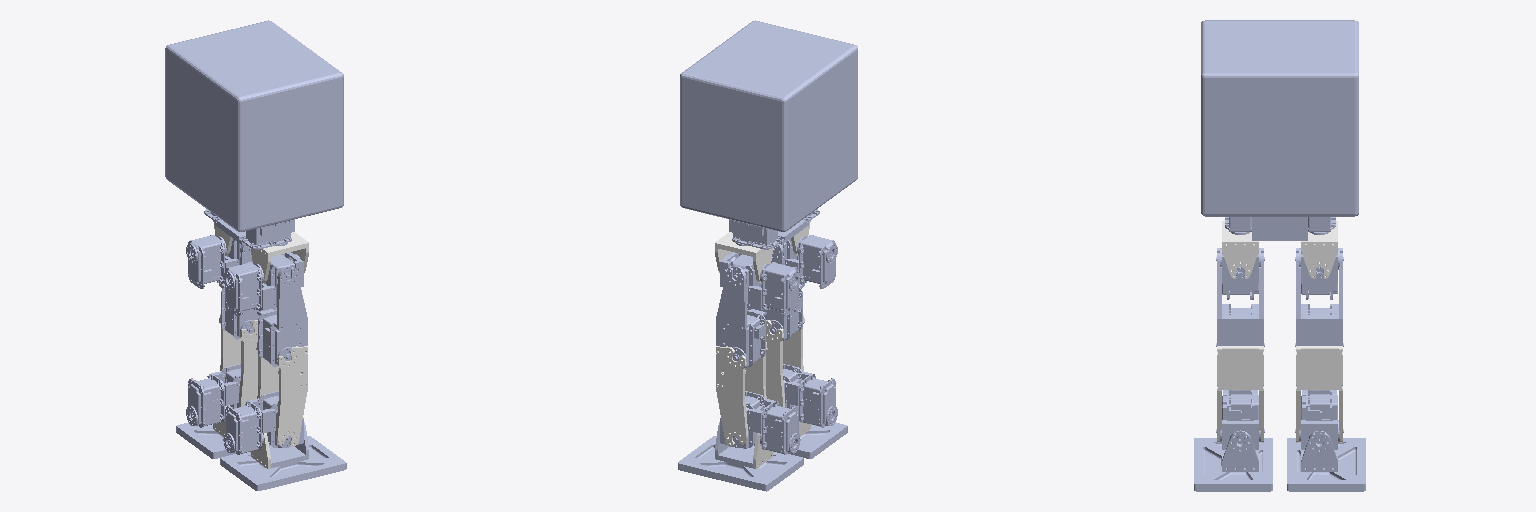
URDF robot description (src23):
<?xml version="1.0" encoding="utf-8"?>
<!-- This URDF was automatically created by SolidWorks to URDF Exporter! Originally created by [author] ([email redacted]) 
     Commit Version: 1.6.0-1-g15f4949  Build Version: 1.6.7594.29634
     For more information, please see http://wiki.ros.org/sw_urdf_exporter -->
<robot
  name="src23">
  <link
    name="base_link">
    <inertial>
      <origin
        xyz="-2.403E-12 6.9285E-12 -2.2711E-11"
        rpy="0 0 0" />
      <mass
        value="6.902" />
      <inertia
        ixx="0.044371"
        ixy="-1.0159E-12"
        ixz="4.5302E-07"
        iyy="0.037432"
        iyz="-2.863E-11"
        izz="0.03702" />
    </inertial>
    <visual>
      <origin
        xyz="0 0 0"
        rpy="0 0 0" />
      <geometry>
        <mesh
          filename="package://src23/meshes/base_link.STL" />
      </geometry>
      <material
        name="">
        <color
          rgba="0.79216 0.81961 0.93333 1" />
      </material>
    </visual>
    <collision>
      <origin
        xyz="0 0 0"
        rpy="0 0 0" />
      <geometry>
        <mesh
          filename="package://src23/meshes/base_link.STL" />
      </geometry>
    </collision>
  </link>
  <link
    name="RP_Link">
    <inertial>
      <origin
        xyz="0.0030843 8.0795E-08 0.027759"
        rpy="0 0 0" />
      <mass
        value="0.032185" />
      <inertia
        ixx="8.1509E-06"
        ixy="9.1895E-22"
        ixz="2.5914E-09"
        iyy="6.7466E-06"
        iyz="2.4212E-11"
        izz="9.2429E-06" />
    </inertial>
    <visual>
      <origin
        xyz="0 0 0"
        rpy="0 0 0" />
      <geometry>
        <mesh
          filename="package://src23/meshes/RP_Link.STL" />
      </geometry>
      <material
        name="">
        <color
          rgba="1 1 1 1" />
      </material>
    </visual>
    <collision>
      <origin
        xyz="0 0 0"
        rpy="0 0 0" />
      <geometry>
        <mesh
          filename="package://src23/meshes/RP_Link.STL" />
      </geometry>
    </collision>
  </link>
  <joint
    name="RP"
    type="revolute">
    <origin
      xyz="0.0074551 -0.05 -0.18676"
      rpy="0 0 0" />
    <parent
      link="base_link" />
    <child
      link="RP_Link" />
    <axis
      xyz="0 0 1" />
    <limit
      lower="0"
      upper="0"
      effort="0"
      velocity="0" />
  </joint>
  <link
    name="RPm_Link">
    <inertial>
      <origin
        xyz="-0.020727 2.658E-05 -0.014808"
        rpy="0 0 0" />
      <mass
        value="0.18625" />
      <inertia
        ixx="7.3206E-05"
        ixy="2.1305E-09"
        ixz="-8.425E-07"
        iyy="6.5856E-05"
        iyz="3.6064E-07"
        izz="4.4648E-05" />
    </inertial>
    <visual>
      <origin
        xyz="0 0 0"
        rpy="0 0 0" />
      <geometry>
        <mesh
          filename="package://src23/meshes/RPm_Link.STL" />
      </geometry>
      <material
        name="">
        <color
          rgba="0.79216 0.81961 0.93333 1" />
      </material>
    </visual>
    <collision>
      <origin
        xyz="0 0 0"
        rpy="0 0 0" />
      <geometry>
        <mesh
          filename="package://src23/meshes/RPm_Link.STL" />
      </geometry>
    </collision>
  </link>
  <joint
    name="RPm"
    type="revolute">
    <origin
      xyz="0 0 0"
      rpy="0 0 0" />
    <parent
      link="RP_Link" />
    <child
      link="RPm_Link" />
    <axis
      xyz="1 0 0" />
    <limit
      lower="0"
      upper="0"
      effort="0"
      velocity="0" />
  </joint>
  <link
    name="RPd_Link">
    <inertial>
      <origin
        xyz="0.0044288 -3.146E-05 -0.087344"
        rpy="0 0 0" />
      <mass
        value="0.15516" />
      <inertia
        ixx="8.6755E-05"
        ixy="-2.1454E-09"
        ixz="6.58E-06"
        iyy="7.9237E-05"
        iyz="3.6064E-07"
        izz="3.7712E-05" />
    </inertial>
    <visual>
      <origin
        xyz="0 0 0"
        rpy="0 0 0" />
      <geometry>
        <mesh
          filename="package://src23/meshes/RPd_Link.STL" />
      </geometry>
      <material
        name="">
        <color
          rgba="0.79608 0.82353 0.93725 1" />
      </material>
    </visual>
    <collision>
      <origin
        xyz="0 0 0"
        rpy="0 0 0" />
      <geometry>
        <mesh
          filename="package://src23/meshes/RPd_Link.STL" />
      </geometry>
    </collision>
  </link>
  <joint
    name="RPd"
    type="revolute">
    <origin
      xyz="0 0 0"
      rpy="0 0 0" />
    <parent
      link="RPm_Link" />
    <child
      link="RPd_Link" />
    <axis
      xyz="0 1 0" />
    <limit
      lower="0"
      upper="0"
      effort="0"
      velocity="0" />
  </joint>
  <link
    name="RK_Link">
    <inertial>
      <origin
        xyz="0.011128 1.9486E-07 -0.046701"
        rpy="0 0 0" />
      <mass
        value="0.076683" />
      <inertia
        ixx="8.1384E-05"
        ixy="-5.3754E-13"
        ixz="-6.8263E-06"
        iyy="8.6027E-05"
        iyz="-1.5763E-12"
        izz="1.2623E-05" />
    </inertial>
    <visual>
      <origin
        xyz="0 0 0"
        rpy="0 0 0" />
      <geometry>
        <mesh
          filename="package://src23/meshes/RK_Link.STL" />
      </geometry>
      <material
        name="">
        <color
          rgba="0.96863 0.96863 0.96863 1" />
      </material>
    </visual>
    <collision>
      <origin
        xyz="0 0 0"
        rpy="0 0 0" />
      <geometry>
        <mesh
          filename="package://src23/meshes/RK_Link.STL" />
      </geometry>
    </collision>
  </link>
  <joint
    name="RK"
    type="revolute">
    <origin
      xyz="0 0 -0.12"
      rpy="0 0 0" />
    <parent
      link="RPd_Link" />
    <child
      link="RK_Link" />
    <axis
      xyz="0 1 0" />
    <limit
      lower="0"
      upper="0"
      effort="0"
      velocity="0" />
  </joint>
  <link
    name="RA_Link">
    <inertial>
      <origin
        xyz="-0.020723 -3.4876E-05 0.014808"
        rpy="0 0 0" />
      <mass
        value="0.18625" />
      <inertia
        ixx="7.3206E-05"
        ixy="-2.1306E-09"
        ixz="8.425E-07"
        iyy="6.5856E-05"
        iyz="3.6064E-07"
        izz="4.4648E-05" />
    </inertial>
    <visual>
      <origin
        xyz="0 0 0"
        rpy="0 0 0" />
      <geometry>
        <mesh
          filename="package://src23/meshes/RA_Link.STL" />
      </geometry>
      <material
        name="">
        <color
          rgba="0.79216 0.81961 0.93333 1" />
      </material>
    </visual>
    <collision>
      <origin
        xyz="0 0 0"
        rpy="0 0 0" />
      <geometry>
        <mesh
          filename="package://src23/meshes/RA_Link.STL" />
      </geometry>
    </collision>
  </link>
  <joint
    name="RA"
    type="revolute">
    <origin
      xyz="0 0 -0.12"
      rpy="0 0 0" />
    <parent
      link="RK_Link" />
    <child
      link="RA_Link" />
    <axis
      xyz="0 1 0" />
    <limit
      lower="0"
      upper="0"
      effort="0"
      velocity="0" />
  </joint>
  <link
    name="RF_Link">
    <inertial>
      <origin
        xyz="-0.026596 -9.982E-05 -0.019713"
        rpy="0 0 0" />
      <mass
        value="0.0084038" />
      <inertia
        ixx="2.5925E-06"
        ixy="1.2311E-20"
        ixz="1.7723E-22"
        iyy="1.3986E-06"
        iyz="1.2106E-11"
        izz="1.2289E-06" />
    </inertial>
    <visual>
      <origin
        xyz="0 0 0"
        rpy="0 0 0" />
      <geometry>
        <mesh
          filename="package://src23/meshes/RF_Link.STL" />
      </geometry>
      <material
        name="">
        <color
          rgba="0.92549 0.92549 0.92549 1" />
      </material>
    </visual>
    <collision>
      <origin
        xyz="0 0 0"
        rpy="0 0 0" />
      <geometry>
        <mesh
          filename="package://src23/meshes/RF_Link.STL" />
      </geometry>
    </collision>
  </link>
  <joint
    name="RF"
    type="revolute">
    <origin
      xyz="0 0 0"
      rpy="0 0 0" />
    <parent
      link="RA_Link" />
    <child
      link="RF_Link" />
    <axis
      xyz="1 0 0" />
    <limit
      lower="0"
      upper="0"
      effort="0"
      velocity="0" />
  </joint>
  <link
    name="RS_Link">
    <inertial>
      <origin
        xyz="0.0047189 -0.0068892 0.0070711"
        rpy="0 0 0" />
      <mass
        value="0.14508" />
      <inertia
        ixx="0.00011554"
        ixy="3.6327E-13"
        ixz="-1.4699E-12"
        iyy="0.0002103"
        iyz="-1.3291E-06"
        izz="0.00031871" />
    </inertial>
    <visual>
      <origin
        xyz="0 0 0"
        rpy="0 0 0" />
      <geometry>
        <mesh
          filename="package://src23/meshes/RS_Link.STL" />
      </geometry>
      <material
        name="">
        <color
          rgba="0.79216 0.81961 0.93333 1" />
      </material>
    </visual>
    <collision>
      <origin
        xyz="0 0 0"
        rpy="0 0 0" />
      <geometry>
        <mesh
          filename="package://src23/meshes/RS_Link.STL" />
      </geometry>
    </collision>
  </link>
  <joint
    name="RS"
    type="revolute">
    <origin
      xyz="0 0 -0.05"
      rpy="0 0 0" />
    <parent
      link="RF_Link" />
    <child
      link="RS_Link" />
    <axis
      xyz="1 0 0" />
    <limit
      lower="0"
      upper="0"
      effort="0"
      velocity="0" />
  </joint>
  <link
    name="LP_Link">
    <inertial>
      <origin
        xyz="0.00308430472578777 8.07946247960434E-08 0.0277589995846447"
        rpy="0 0 0" />
      <mass
        value="0.0321846509954708" />
      <inertia
        ixx="8.15087378543008E-06"
        ixy="1.67332971101005E-22"
        ixz="2.59135407346256E-09"
        iyy="6.74664620431169E-06"
        iyz="2.4211910106564E-11"
        izz="9.24290011143753E-06" />
    </inertial>
    <visual>
      <origin
        xyz="0 0 0"
        rpy="0 0 0" />
      <geometry>
        <mesh
          filename="package://src23/meshes/LP_Link.STL" />
      </geometry>
      <material
        name="">
        <color
          rgba="1 1 1 1" />
      </material>
    </visual>
    <collision>
      <origin
        xyz="0 0 0"
        rpy="0 0 0" />
      <geometry>
        <mesh
          filename="package://src23/meshes/LP_Link.STL" />
      </geometry>
    </collision>
  </link>
  <joint
    name="LP"
    type="revolute">
    <origin
      xyz="0.0074551 0.05 -0.18676"
      rpy="0 0 0" />
    <parent
      link="base_link" />
    <child
      link="LP_Link" />
    <axis
      xyz="0 0 1" />
    <limit
      lower="0"
      upper="0"
      effort="0"
      velocity="0" />
  </joint>
  <link
    name="LPm_Link">
    <inertial>
      <origin
        xyz="-0.0207274437208562 2.65804858109869E-05 -0.0148075586222277"
        rpy="0 0 0" />
      <mass
        value="0.186246782923583" />
      <inertia
        ixx="7.32062294794612E-05"
        ixy="2.13048548411338E-09"
        ixz="-8.42502475240238E-07"
        iyy="6.5855652034397E-05"
        iyz="3.60642118996533E-07"
        izz="4.464753551463E-05" />
    </inertial>
    <visual>
      <origin
        xyz="0 0 0"
        rpy="0 0 0" />
      <geometry>
        <mesh
          filename="package://src23/meshes/LPm_Link.STL" />
      </geometry>
      <material
        name="">
        <color
          rgba="0.792156862745098 0.819607843137255 0.933333333333333 1" />
      </material>
    </visual>
    <collision>
      <origin
        xyz="0 0 0"
        rpy="0 0 0" />
      <geometry>
        <mesh
          filename="package://src23/meshes/LPm_Link.STL" />
      </geometry>
    </collision>
  </link>
  <joint
    name="LPm"
    type="revolute">
    <origin
      xyz="0 0 0"
      rpy="0 0 0" />
    <parent
      link="LP_Link" />
    <child
      link="LPm_Link" />
    <axis
      xyz="1 0 0" />
    <limit
      lower="0"
      upper="0"
      effort="0"
      velocity="0" />
  </joint>
  <link
    name="LPd_Link">
    <inertial>
      <origin
        xyz="0.00442878146276882 -3.14603950928444E-05 -0.0873435911372788"
        rpy="0 0 0" />
      <mass
        value="0.155158404166415" />
      <inertia
        ixx="8.67547471770681E-05"
        ixy="-2.14540531370657E-09"
        ixz="6.5799896853294E-06"
        iyy="7.92367440815387E-05"
        iyz="3.60637120742756E-07"
        izz="3.77121677268323E-05" />
    </inertial>
    <visual>
      <origin
        xyz="0 0 0"
        rpy="0 0 0" />
      <geometry>
        <mesh
          filename="package://src23/meshes/LPd_Link.STL" />
      </geometry>
      <material
        name="">
        <color
          rgba="0.796078431372549 0.823529411764706 0.937254901960784 1" />
      </material>
    </visual>
    <collision>
      <origin
        xyz="0 0 0"
        rpy="0 0 0" />
      <geometry>
        <mesh
          filename="package://src23/meshes/LPd_Link.STL" />
      </geometry>
    </collision>
  </link>
  <joint
    name="LPd"
    type="revolute">
    <origin
      xyz="0 0 0"
      rpy="0 0 0" />
    <parent
      link="LPm_Link" />
    <child
      link="LPd_Link" />
    <axis
      xyz="0 -1 0" />
    <limit
      lower="0"
      upper="0"
      effort="0"
      velocity="0" />
  </joint>
  <link
    name="LK_Link">
    <inertial>
      <origin
        xyz="0.0111276747678031 1.94862065316936E-07 -0.0467011594340604"
        rpy="0 0 0" />
      <mass
        value="0.0766833061478168" />
      <inertia
        ixx="8.13835258979848E-05"
        ixy="-5.37539403425936E-13"
        ixz="-6.82632129314695E-06"
        iyy="8.60266643258083E-05"
        iyz="-1.57628397961801E-12"
        izz="1.2622932439864E-05" />
    </inertial>
    <visual>
      <origin
        xyz="0 0 0"
        rpy="0 0 0" />
      <geometry>
        <mesh
          filename="package://src23/meshes/LK_Link.STL" />
      </geometry>
      <material
        name="">
        <color
          rgba="0.968627450980392 0.968627450980392 0.968627450980392 1" />
      </material>
    </visual>
    <collision>
      <origin
        xyz="0 0 0"
        rpy="0 0 0" />
      <geometry>
        <mesh
          filename="package://src23/meshes/LK_Link.STL" />
      </geometry>
    </collision>
  </link>
  <joint
    name="LK"
    type="revolute">
    <origin
      xyz="0 0 -0.12"
      rpy="0 0 0" />
    <parent
      link="LPd_Link" />
    <child
      link="LK_Link" />
    <axis
      xyz="0 -1 0" />
    <limit
      lower="0"
      upper="0"
      effort="0"
      velocity="0" />
  </joint>
  <link
    name="LA_Link">
    <inertial>
      <origin
        xyz="-0.0207230961298701 -3.48759082748132E-05 0.0148075586274024"
        rpy="0 0 0" />
      <mass
        value="0.186246783228343" />
      <inertia
        ixx="7.32062296398091E-05"
        ixy="-2.13055245061791E-09"
        ixz="8.42502485765733E-07"
        iyy="6.58556520206297E-05"
        iyz="3.60642133292606E-07"
        izz="4.46475355735441E-05" />
    </inertial>
    <visual>
      <origin
        xyz="0 0 0"
        rpy="0 0 0" />
      <geometry>
        <mesh
          filename="package://src23/meshes/LA_Link.STL" />
      </geometry>
      <material
        name="">
        <color
          rgba="0.792156862745098 0.819607843137255 0.933333333333333 1" />
      </material>
    </visual>
    <collision>
      <origin
        xyz="0 0 0"
        rpy="0 0 0" />
      <geometry>
        <mesh
          filename="package://src23/meshes/LA_Link.STL" />
      </geometry>
    </collision>
  </link>
  <joint
    name="LA"
    type="revolute">
    <origin
      xyz="0 0 -0.12"
      rpy="0 0 0" />
    <parent
      link="LK_Link" />
    <child
      link="LA_Link" />
    <axis
      xyz="0 1 0" />
    <limit
      lower="0"
      upper="0"
      effort="0"
      velocity="0" />
  </joint>
  <link
    name="LF_Link">
    <inertial>
      <origin
        xyz="-0.0265956524327976 -9.97784370968952E-05 -0.0197134610159782"
        rpy="0 0 0" />
      <mass
        value="0.00840381240077212" />
      <inertia
        ixx="2.59254240262506E-06"
        ixy="4.44678401884135E-21"
        ixz="5.43295559734817E-22"
        iyy="1.3986189914568E-06"
        iyz="-1.21059550543493E-11"
        izz="1.22893929617148E-06" />
    </inertial>
    <visual>
      <origin
        xyz="0 0 0"
        rpy="0 0 0" />
      <geometry>
        <mesh
          filename="package://src23/meshes/LF_Link.STL" />
      </geometry>
      <material
        name="">
        <color
          rgba="0.925490196078431 0.925490196078431 0.925490196078431 1" />
      </material>
    </visual>
    <collision>
      <origin
        xyz="0 0 0"
        rpy="0 0 0" />
      <geometry>
        <mesh
          filename="package://src23/meshes/LF_Link.STL" />
      </geometry>
    </collision>
  </link>
  <joint
    name="LF"
    type="revolute">
    <origin
      xyz="0 0 0"
      rpy="0 0 0" />
    <parent
      link="LA_Link" />
    <child
      link="LF_Link" />
    <axis
      xyz="1 0 0" />
    <limit
      lower="0"
      upper="0"
      effort="0"
      velocity="0" />
  </joint>
  <link
    name="LS_Link">
    <inertial>
      <origin
        xyz="0.00471890565254679 0.0066899964680502 0.00707110854070214"
        rpy="0 0 0" />
      <mass
        value="0.145082768731353" />
      <inertia
        ixx="0.000115541639630402"
        ixy="3.63269554132113E-13"
        ixz="1.4699209637831E-12"
        iyy="0.000210296977122794"
        iyz="1.32915560839557E-06"
        izz="0.000318707327283813" />
    </inertial>
    <visual>
      <origin
        xyz="0 0 0"
        rpy="0 0 0" />
      <geometry>
        <mesh
          filename="package://src23/meshes/LS_Link.STL" />
      </geometry>
      <material
        name="">
        <color
          rgba="0.792156862745098 0.819607843137255 0.933333333333333 1" />
      </material>
    </visual>
    <collision>
      <origin
        xyz="0 0 0"
        rpy="0 0 0" />
      <geometry>
        <mesh
          filename="package://src23/meshes/LS_Link.STL" />
      </geometry>
    </collision>
  </link>
  <joint
    name="LS"
    type="revolute">
    <origin
      xyz="0 0 -0.05"
      rpy="0 0 0" />
    <parent
      link="LF_Link" />
    <child
      link="LS_Link" />
    <axis
      xyz="1 0 0" />
    <limit
      lower="0"
      upper="0"
      effort="0"
      velocity="0" />
  </joint>
</robot>

--- Facts derived from the render (not from the file) ---
3 views of the same robot in one strip: view 1: azimuth 30°, elevation 25°; view 2: azimuth 150°, elevation 25°; view 3: azimuth 270°, elevation 25° (orthographic).
Model src23 with 15 links and 14 joints (14 revolute), rooted at base_link, posed all joints at 0.
Links seen in each view (by area): view 1: base_link, RS_Link, RK_Link, RPd_Link, RPm_Link, RA_Link, LA_Link, LPm_Link, LK_Link, LS_Link, LPd_Link, RP_Link; view 2: base_link, LS_Link, LPd_Link, LK_Link, LPm_Link, LA_Link, RA_Link, RPm_Link, RK_Link, RS_Link, RPd_Link, LP_Link; view 3: base_link, RS_Link, LS_Link, RK_Link, LK_Link, RPd_Link, LPd_Link, LA_Link, RA_Link, RP_Link, LP_Link, RPm_Link (+1 smaller).
Link boxes in pixels (box(x1,y1,x2,y2)): base_link: box(165, 20, 343, 249); RS_Link: box(220, 422, 346, 490); RK_Link: box(256, 342, 307, 446); RPd_Link: box(257, 267, 307, 366); RPm_Link: box(223, 252, 303, 315); RA_Link: box(223, 391, 303, 454); LA_Link: box(186, 364, 240, 427); LPm_Link: box(186, 235, 250, 288); LK_Link: box(219, 314, 257, 406); LS_Link: box(176, 422, 269, 458); LPd_Link: box(219, 244, 259, 339); RP_Link: box(251, 232, 308, 283); base_link: box(680, 20, 857, 249); LS_Link: box(678, 422, 803, 491); LPd_Link: box(716, 268, 766, 367); LK_Link: box(716, 342, 767, 446); LPm_Link: box(720, 252, 800, 316); LA_Link: box(720, 391, 800, 454); RA_Link: box(783, 364, 837, 427); RPm_Link: box(773, 235, 837, 288); RK_Link: box(766, 314, 804, 406); RS_Link: box(754, 422, 847, 458); RPd_Link: box(764, 244, 804, 340); LP_Link: box(715, 232, 772, 283); base_link: box(1201, 20, 1358, 240); RS_Link: box(1194, 433, 1272, 491); LS_Link: box(1287, 433, 1365, 491); RK_Link: box(1217, 346, 1263, 442); LK_Link: box(1296, 346, 1342, 442); RPd_Link: box(1216, 248, 1264, 346); LPd_Link: box(1295, 248, 1343, 346); LA_Link: box(1295, 390, 1343, 449); RA_Link: box(1216, 390, 1264, 449); RP_Link: box(1222, 221, 1258, 278); LP_Link: box(1301, 221, 1337, 278); RPm_Link: box(1216, 248, 1264, 299).
Bounding box of the posed robot: 0.165 × 0.218 × 0.5825 m (x, y, z).
15 mesh visuals loaded from 15 distinct referenced files (15 binary STL).